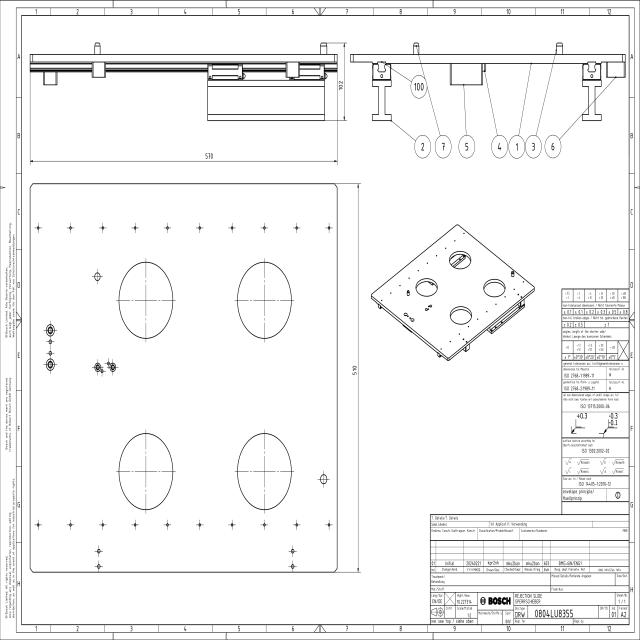dimension: (203, 150, 214, 161), (336, 79, 345, 92), (351, 362, 358, 377)
